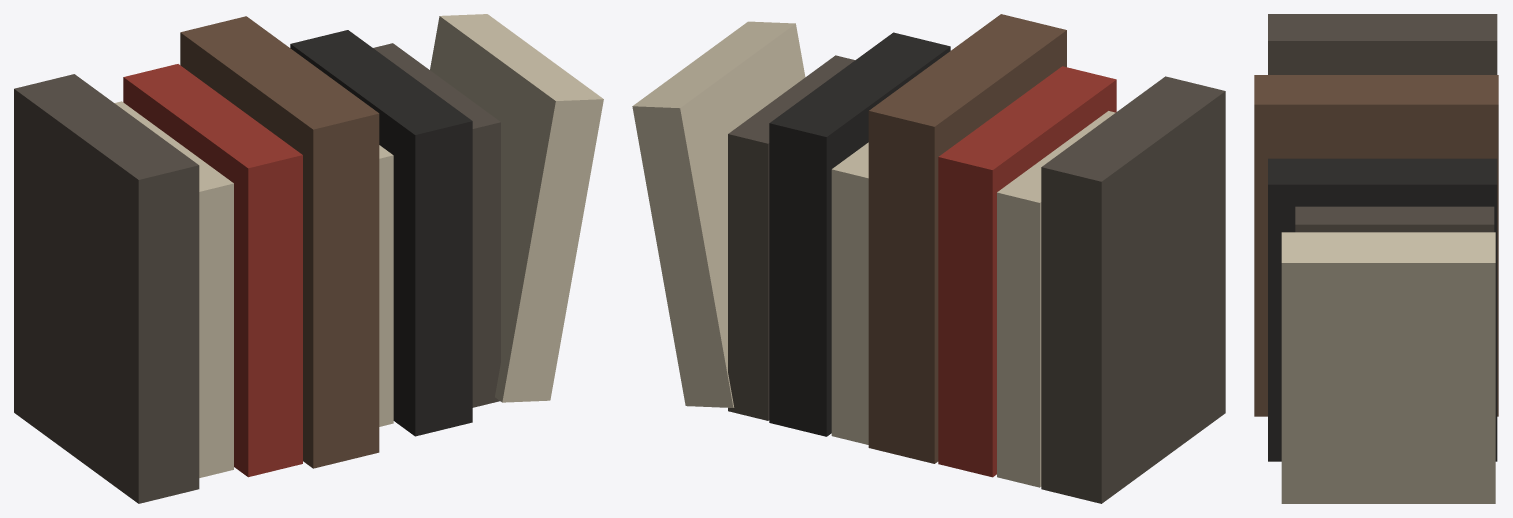
Rendered from bedroom-book-row.glb.
3 views of the same model, side by side, from view 1: azimuth 30°, elevation 25°; view 2: azimuth 150°, elevation 25°; view 3: azimuth 270°, elevation 25° (orthographic). The views are drawn at different scales.
Visible parts, largest first — view 1: fabric, paper, wood, plastic-dark, accent-warm; view 2: fabric, paper, wood, accent-warm, plastic-dark; view 3: paper, wood, fabric, plastic-dark.
Boxes of the visible parts, box(x1,y1,x2,y2) form: fabric: box(14, 43, 500, 503); paper: box(114, 14, 603, 477); wood: box(180, 16, 379, 468); plastic-dark: box(290, 30, 472, 436); accent-warm: box(123, 64, 302, 477); fabric: box(728, 55, 1225, 503); paper: box(632, 21, 1115, 487); wood: box(868, 14, 1066, 463); accent-warm: box(938, 66, 1116, 477); plastic-dark: box(769, 32, 950, 436); paper: box(1281, 232, 1495, 503); wood: box(1254, 75, 1498, 416); fabric: box(1268, 14, 1497, 232); plastic-dark: box(1268, 158, 1497, 461).
Size of the model in its own units: 0.3283 by 0.228 by 0.16.
